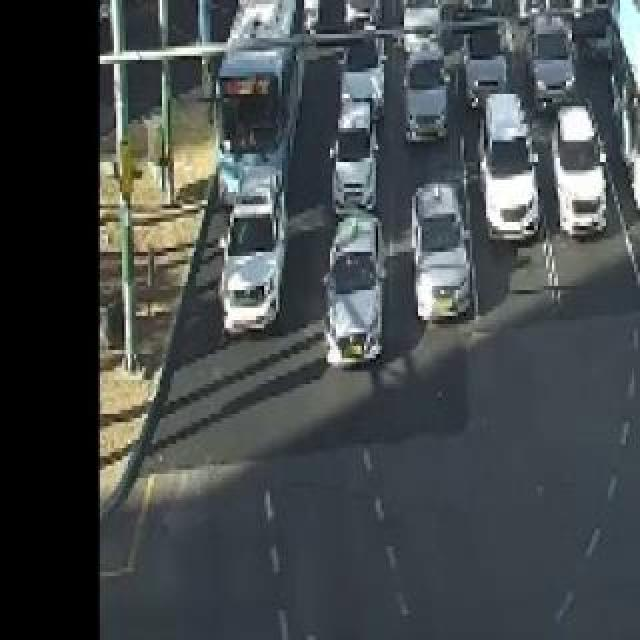car: (400, 184, 502, 334), (315, 216, 404, 370), (531, 91, 620, 236), (476, 92, 554, 234), (384, 35, 461, 152), (218, 200, 283, 338), (320, 85, 392, 207), (526, 7, 590, 120)
